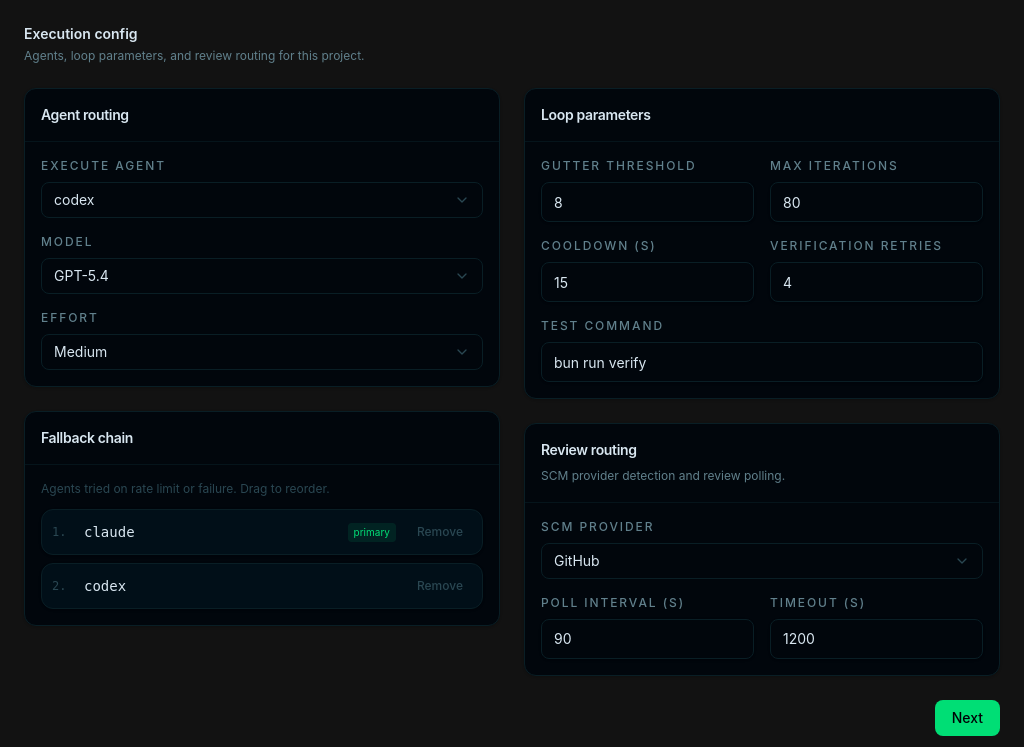
Test case: Configure › blocks saving and navigation when numeric config is invalid
The width and height of the screenshot is (1024, 747).
Replace the text in the number field labelled "Max iterations" with "0". click: (876, 202)
box: [770,182,983,222]
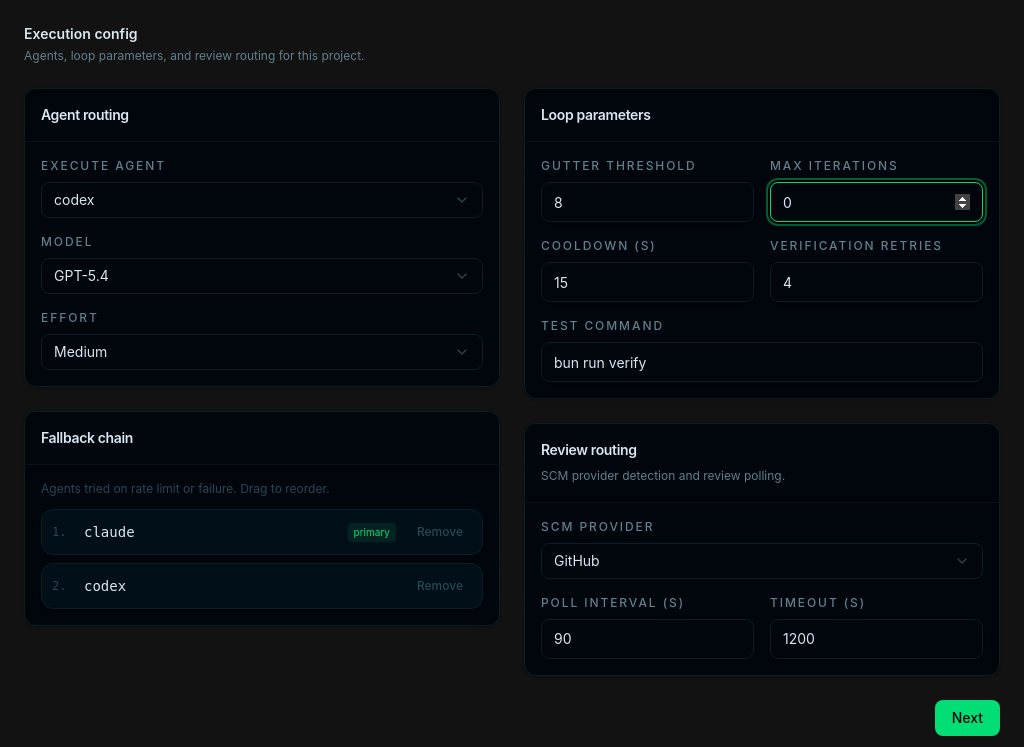
Click the button "Next". click: (967, 718)
box: [935,700,1000,736]
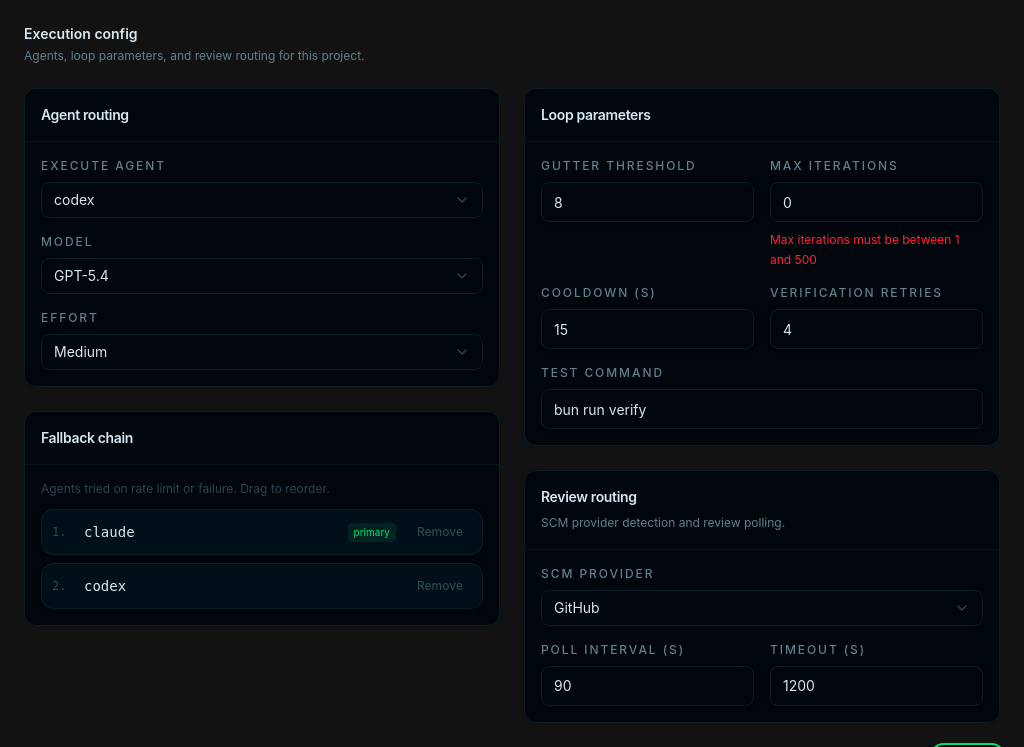
Now the text "Max iterations must be between 1 and 500" is shown, box [770,230,983,269]
